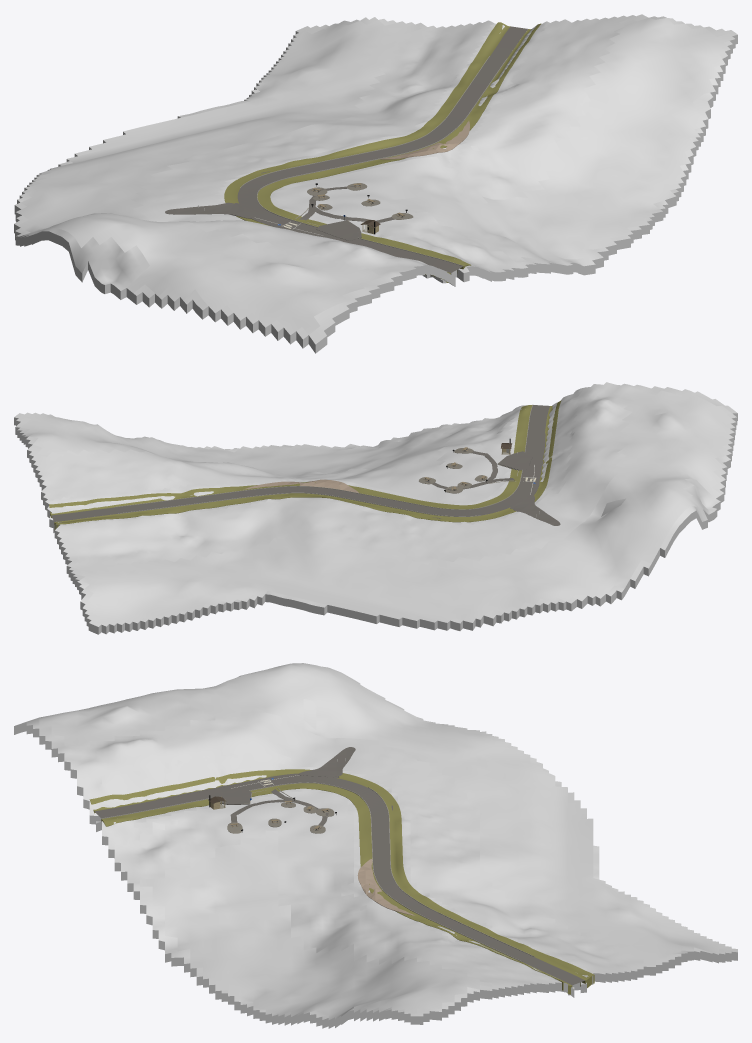
The model's file is conz_24.glb.
3 renders of one model, top to bottom at view 1: azimuth 30°, elevation 25°; view 2: azimuth 150°, elevation 25°; view 3: azimuth 270°, elevation 25°, orthographic. The views are drawn at different scales.
Parts seen in each view (by area): view 1: terrain24, road24, verge24L, verge24R, lot_side1425524, lot_gravel_s724, lot_pk1427524; view 2: terrain24, road24, verge24R, verge24L, lot_gravel_s724, lot_side1425524, kerb24_14095.001, kerb24_14095, lot_pk1427524; view 3: terrain24, road24, verge24R, verge24L, lot_gravel_s724, lot_side1425524.
Part boxes in pixels (x1,y1,x2,y2): terrain24: (14, 14, 737, 353); road24: (237, 26, 527, 272); verge24L: (257, 23, 541, 273); verge24R: (224, 22, 510, 282); lot_side1425524: (165, 202, 254, 218); lot_gravel_s724: (380, 121, 469, 159); lot_pk1427524: (316, 220, 361, 240); terrain24: (14, 382, 737, 634); road24: (51, 405, 549, 521); verge24R: (54, 400, 561, 529); verge24L: (49, 405, 532, 517); lot_gravel_s724: (243, 479, 358, 492); lot_side1425524: (513, 494, 560, 525); kerb24_14095.001: (114, 470, 522, 509); kerb24_14095: (118, 492, 480, 516); lot_pk1427524: (498, 451, 533, 470); terrain24: (14, 663, 737, 1028); road24: (95, 775, 584, 985); verge24R: (89, 769, 594, 987); verge24L: (101, 783, 572, 994); lot_gravel_s724: (357, 859, 414, 915); lot_side1425524: (298, 747, 355, 776).
Size of the model in its own units: 252 by 35.59 by 230.
